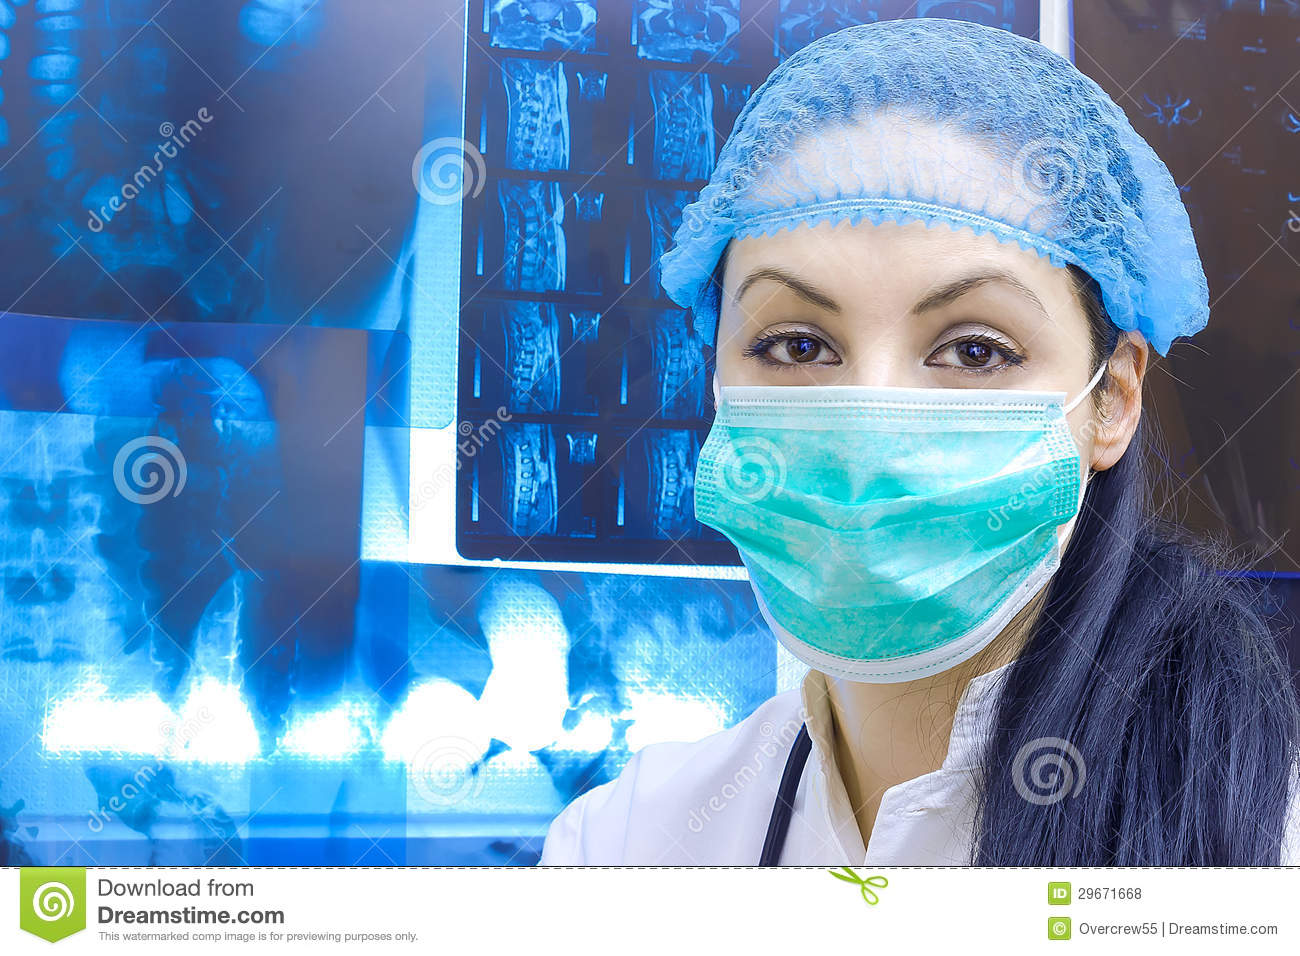mask: (697, 382, 1103, 675)
